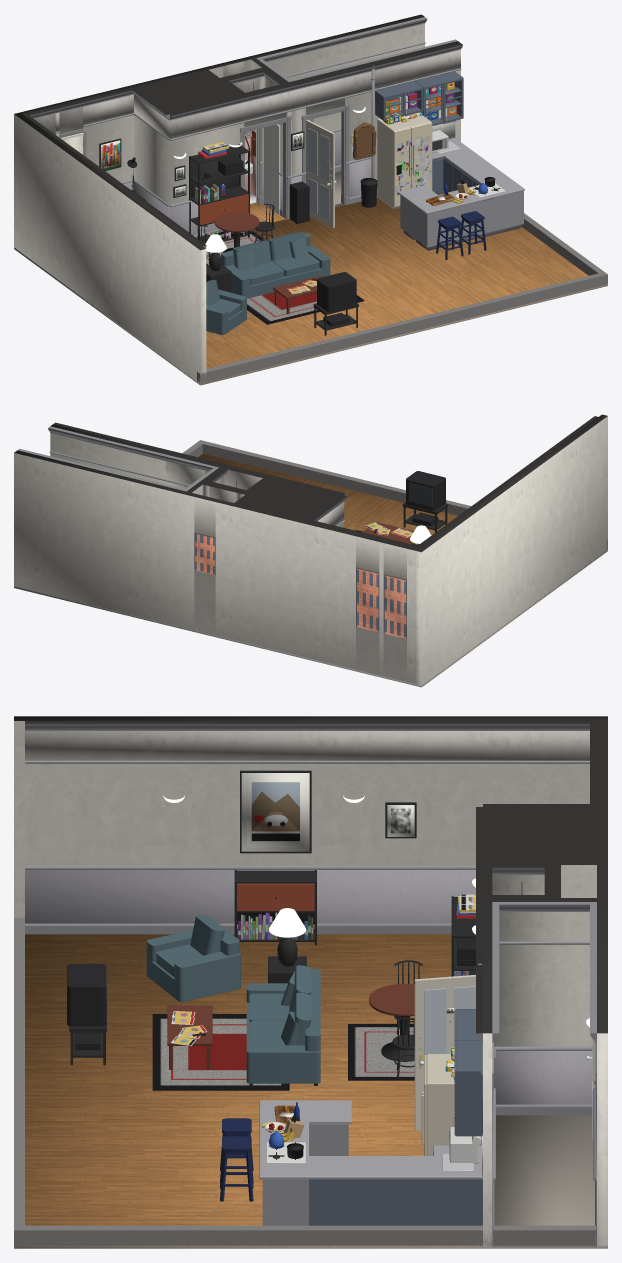
The model's file is room.glb.
3 renders of one model, top to bottom at view 1: azimuth 30°, elevation 25°; view 2: azimuth 150°, elevation 25°; view 3: azimuth 270°, elevation 25°, orthographic. The views are drawn at different scales.
Parts seen in each view (by area): view 1: left_wall_ext, floor, furn_couch_weave, kerb_front_ext, arch_trim_grey, furn_black_lacquer, back_solid, back_face_band0, back_wall_6, furn_black_plastic, furn_counter_board, furn_cabinet_slate (+34 smaller); view 2: left_wall_ext, back_wall_6_ext, back_wall_4_ext, floor, back_solid_ext, back_wall_kitchen, kerb_front, arch_trim_grey, subfloor_ext, win0_view, back_sill_2_ext, win1_view (+19 smaller); view 3: floor, left_wall, left_face_bead0, left_face_band0, furn_couch_weave, back_party, kerb_right_ext, floor_corridor, furn_cabinet_slate, furn_black_lacquer, back_solid_ext, furn_counter_laminate (+33 smaller).
Part boxes in pixels (bbox=[...]): left_wall_ext: bbox=[14, 112, 206, 383]; floor: bbox=[63, 197, 606, 383]; furn_couch_weave: bbox=[206, 231, 330, 335]; kerb_front_ext: bbox=[197, 272, 607, 383]; arch_trim_grey: bbox=[59, 17, 457, 219]; furn_black_lacquer: bbox=[99, 131, 358, 335]; back_solid: bbox=[134, 115, 244, 206]; back_face_band0: bbox=[170, 71, 371, 138]; back_wall_6: bbox=[244, 23, 424, 135]; furn_black_plastic: bbox=[140, 82, 495, 326]; furn_counter_board: bbox=[400, 191, 523, 247]; furn_cabinet_slate: bbox=[375, 71, 480, 192]; left_wall_ext: bbox=[415, 414, 607, 685]; back_wall_6_ext: bbox=[14, 450, 197, 629]; back_wall_4_ext: bbox=[215, 499, 358, 669]; floor: bbox=[198, 454, 599, 656]; back_solid_ext: bbox=[234, 477, 343, 521]; back_wall_kitchen: bbox=[50, 433, 166, 484]; kerb_front: bbox=[202, 444, 467, 515]; arch_trim_grey: bbox=[18, 426, 218, 491]; subfloor_ext: bbox=[14, 549, 607, 687]; win0_view: bbox=[384, 575, 406, 638]; back_sill_2_ext: bbox=[194, 570, 215, 635]; win1_view: bbox=[357, 568, 378, 632]; floor: bbox=[14, 934, 482, 1246]; left_wall: bbox=[14, 721, 589, 917]; left_face_bead0: bbox=[25, 869, 475, 923]; left_face_band0: bbox=[25, 731, 589, 760]; furn_couch_weave: bbox=[146, 914, 320, 1083]; back_party: bbox=[494, 912, 592, 1046]; kerb_right_ext: bbox=[25, 1225, 596, 1245]; floor_corridor: bbox=[494, 1115, 594, 1225]; furn_cabinet_slate: bbox=[309, 1009, 482, 1225]; furn_black_lacquer: bbox=[69, 770, 475, 1085]; back_solid_ext: bbox=[483, 807, 596, 864]; furn_counter_laminate: bbox=[259, 1100, 433, 1179].
Size of the model in its own units: 9.6 by 3.04 by 7.6.
Materials: 72 (29 with a texture image).
